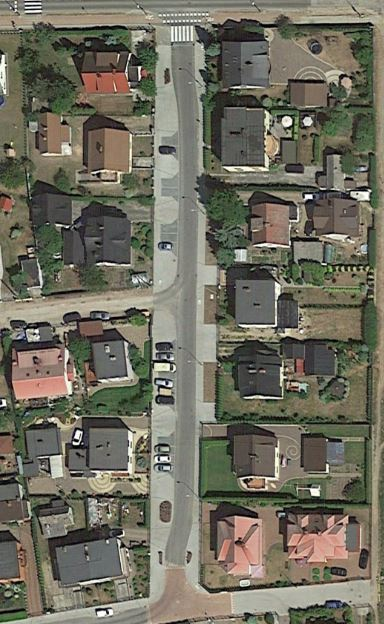family house: (53, 532, 132, 590), (279, 508, 352, 568), (214, 103, 274, 174), (7, 342, 77, 401), (212, 513, 266, 582), (79, 46, 149, 95), (82, 212, 135, 269), (219, 37, 273, 92), (86, 125, 137, 182), (234, 348, 285, 401), (82, 425, 135, 475), (245, 200, 293, 255), (233, 276, 282, 329), (231, 432, 281, 482), (90, 337, 137, 388), (311, 194, 361, 241)
garage: (27, 190, 80, 232), (282, 73, 331, 113), (34, 108, 73, 157), (299, 337, 342, 381), (298, 431, 340, 475), (23, 425, 66, 462)
